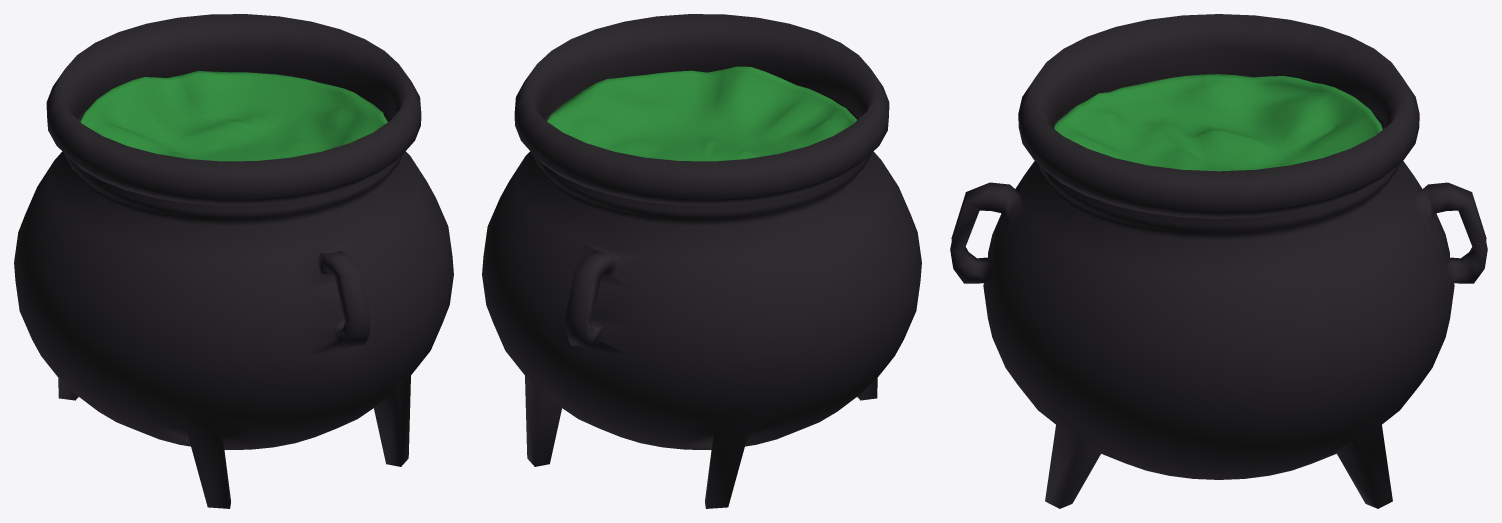
Rendered from Cauldron.fbx.
3 views of the same model, side by side, from view 1: azimuth 30°, elevation 25°; view 2: azimuth 150°, elevation 25°; view 3: azimuth 270°, elevation 25° (orthographic). The views are drawn at different scales.
Parts seen in each view (by area): view 1: Sphere; view 2: Sphere; view 3: Sphere.
Boxes of the visible parts, x1,y1,x2,y2 form: Sphere: (14, 14, 453, 508); Sphere: (482, 14, 921, 508); Sphere: (950, 14, 1487, 508).
Bounding box in the file's own units: 200 × 171 × 228.
